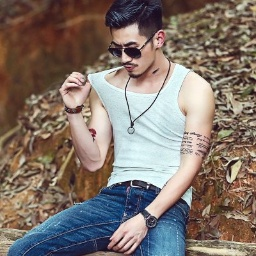face: (103, 2, 168, 78)
